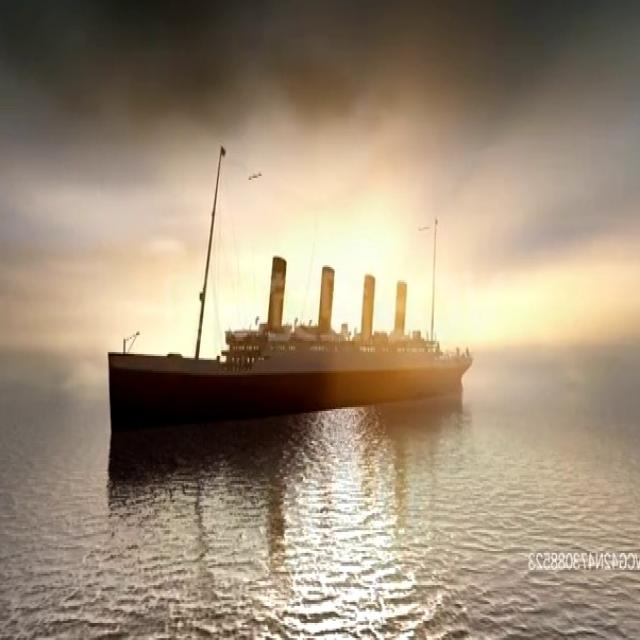passenger ship: (103, 220, 474, 434)
